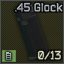Glock .45 ACP 13-round magazine: (0, 0, 64, 64)
